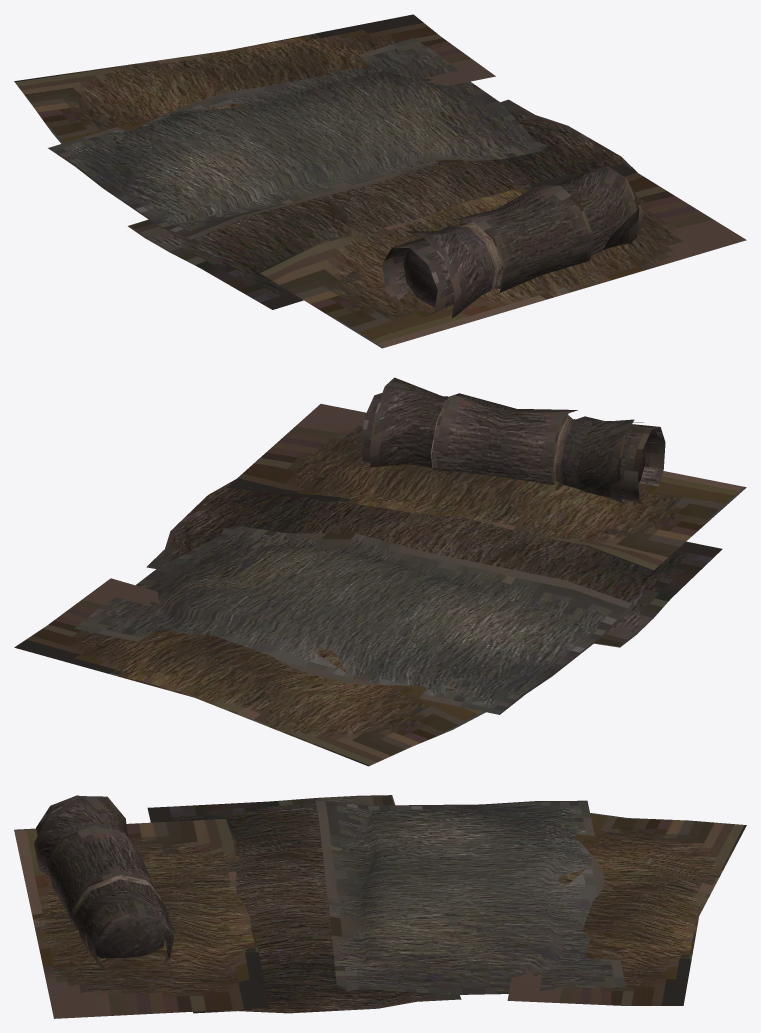
The model's file is eso_gu3_bedding2-transformed.glb.
The picture shows the model from 3 angles, top to bottom: view 1: azimuth 30°, elevation 25°; view 2: azimuth 150°, elevation 25°; view 3: azimuth 270°, elevation 25°; orthographic projection. The views are drawn at different scales.
Visible parts, largest first — view 1: default; view 2: default; view 3: default.
Part boxes in pixels (bbox=[...]): default: bbox=[14, 14, 746, 348]; default: bbox=[14, 377, 746, 766]; default: bbox=[14, 795, 746, 1018].
Bounding box in the file's own units: 3.12 × 0.5629 × 4.35.
1 material, 1 textured.
